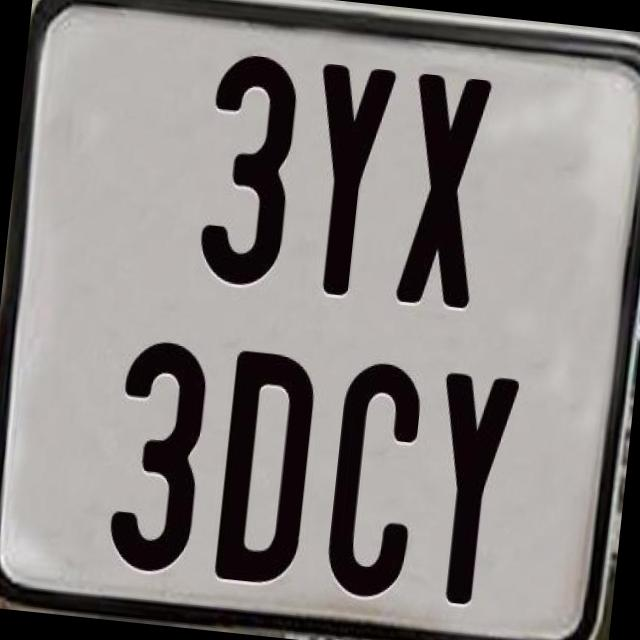3: (192, 48, 305, 295), (102, 338, 209, 576)
C: (320, 360, 428, 602)
D: (210, 350, 316, 592)
X: (394, 73, 499, 314)
Y: (295, 61, 397, 305), (420, 368, 518, 612)
